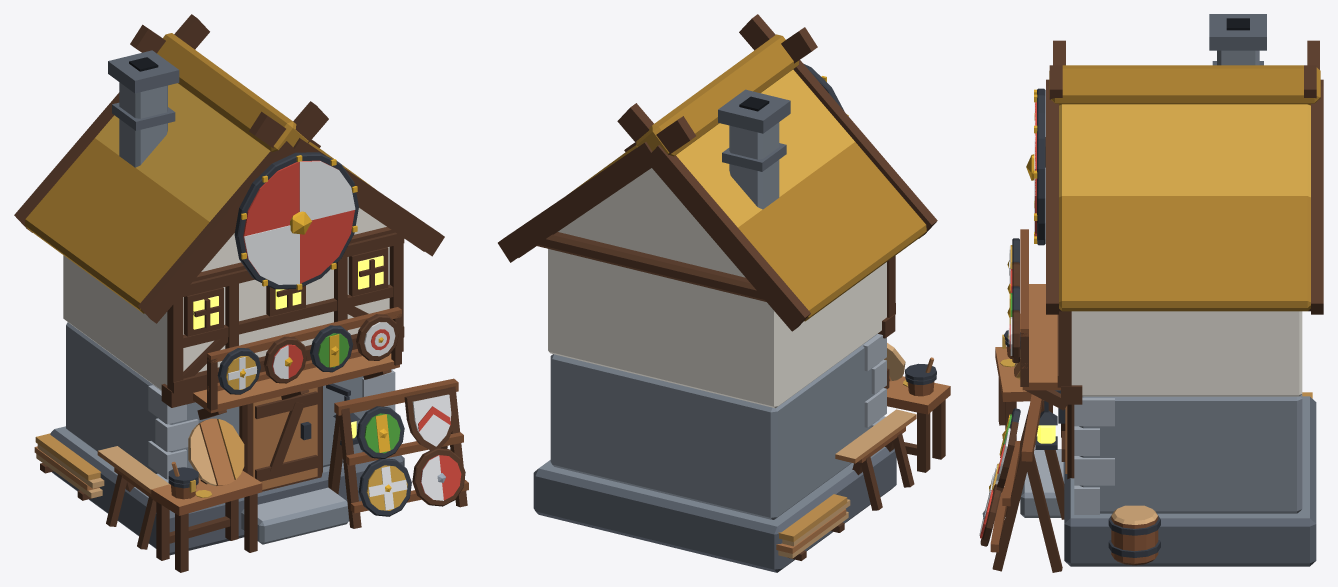
Rendered from Bld_ShieldWorkshop_L3.fbx.
The picture shows the model from 3 angles, left to right: view 1: azimuth 30°, elevation 25°; view 2: azimuth 150°, elevation 25°; view 3: azimuth 270°, elevation 25°; orthographic projection. The views are drawn at different scales.
Parts seen in each view (by area): view 1: Bld_ShieldWorkshop_L3; view 2: Bld_ShieldWorkshop_L3; view 3: Bld_ShieldWorkshop_L3.
Boxes of the visible parts, bbox=[...] form: Bld_ShieldWorkshop_L3: bbox=[14, 14, 468, 572]; Bld_ShieldWorkshop_L3: bbox=[498, 14, 950, 572]; Bld_ShieldWorkshop_L3: bbox=[979, 14, 1323, 572].
Bounding box in the file's own units: 3.51 × 4.68 × 3.23.
